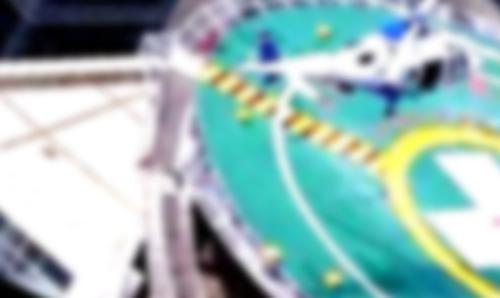Apron: (377, 113, 500, 298)
